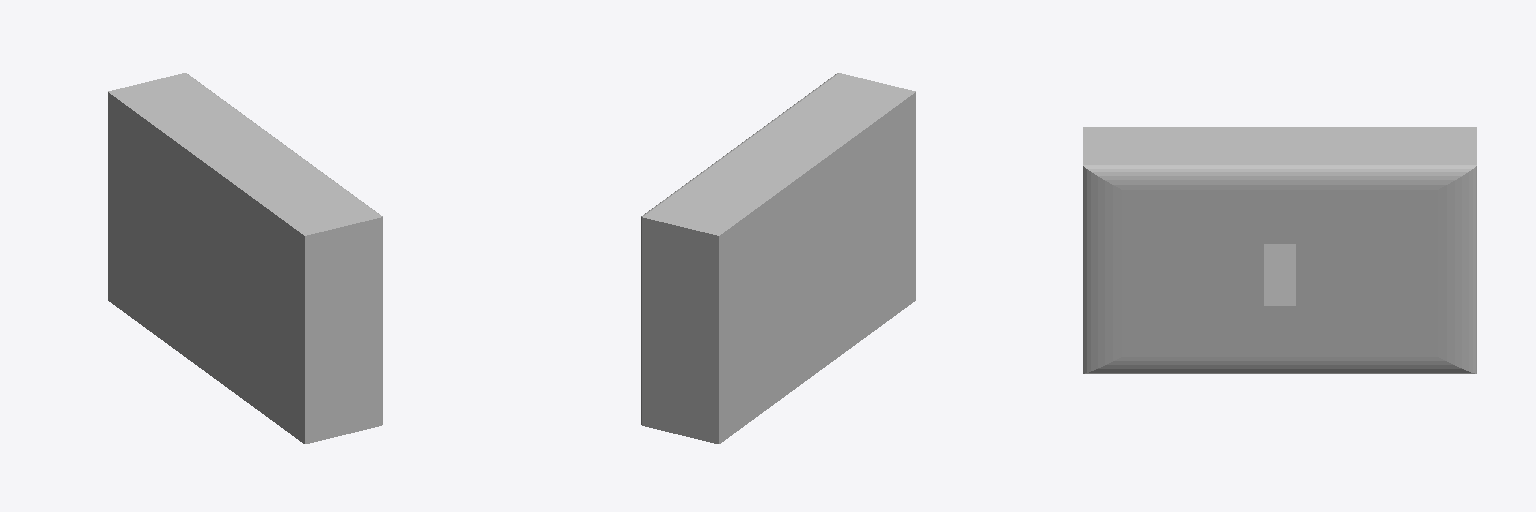
Rendered from lightswitch1.obj.
3 renders of one model, left to right at view 1: azimuth 30°, elevation 25°; view 2: azimuth 150°, elevation 25°; view 3: azimuth 270°, elevation 25°, orthographic.
Parts seen in each view (by area): view 1: Cube; view 2: Cube; view 3: Cube, Cube.001.
Boxes of the visible parts, <box> form: Cube: <box>108,73,382,443</box>; Cube: <box>641,73,915,443</box>; Cube: <box>1083,127,1476,373</box>; Cube.001: <box>1264,244,1295,305</box>.
Bounding box in the file's own units: 7 × 14 × 24.